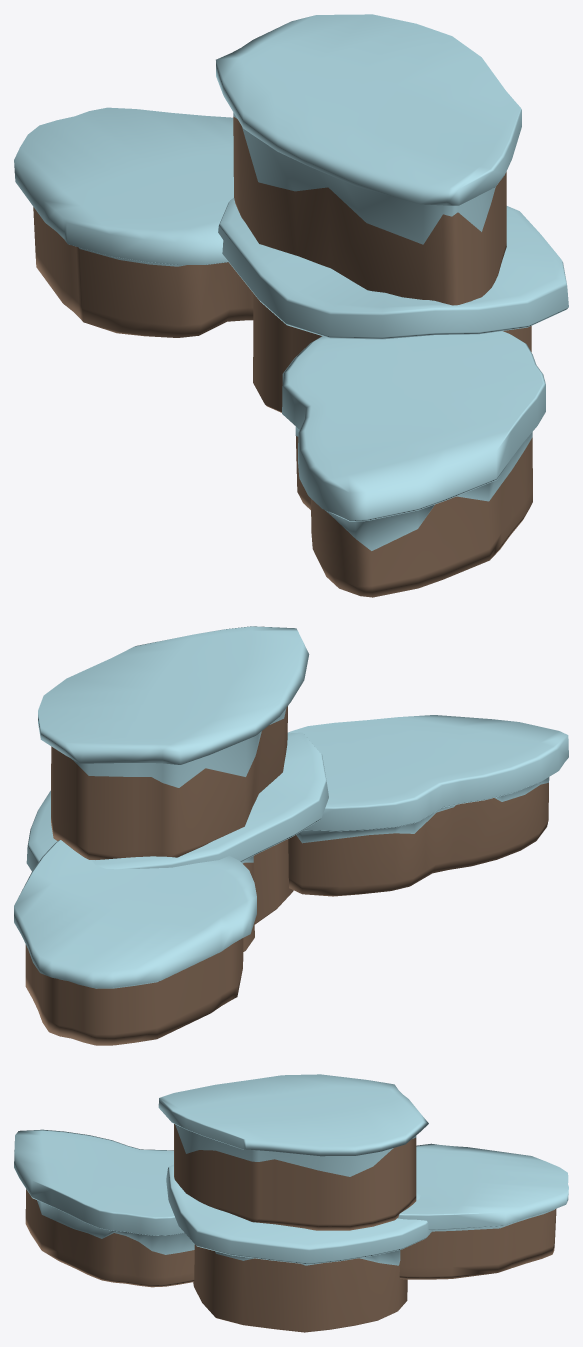
File: Snow_Patch.fbx
3 renders of one model, top to bottom at view 1: azimuth 30°, elevation 25°; view 2: azimuth 150°, elevation 25°; view 3: azimuth 270°, elevation 25°, orthographic. The views are drawn at different scales.
Parts seen in each view (by area): view 1: polySurface3836, polySurface3835, polySurface3834, polySurface3837; view 2: polySurface3836, polySurface3835, polySurface3834, polySurface3837; view 3: polySurface3836, polySurface3837, polySurface3835, polySurface3834.
Boxes of the visible parts, <box> form: polySurface3836: <box>216,14,521,305</box>; polySurface3835: <box>282,331,545,597</box>; polySurface3834: <box>14,107,253,337</box>; polySurface3837: <box>218,198,568,412</box>; polySurface3836: <box>38,626,309,859</box>; polySurface3835: <box>288,715,568,896</box>; polySurface3834: <box>14,840,256,1045</box>; polySurface3837: <box>26,732,328,951</box>; polySurface3836: <box>158,1074,428,1230</box>; polySurface3837: <box>166,1164,432,1332</box>; polySurface3835: <box>14,1129,194,1287</box>; polySurface3834: <box>397,1143,568,1279</box>.
Size of the model in its own units: 9.09 by 6.46 by 17.18.
